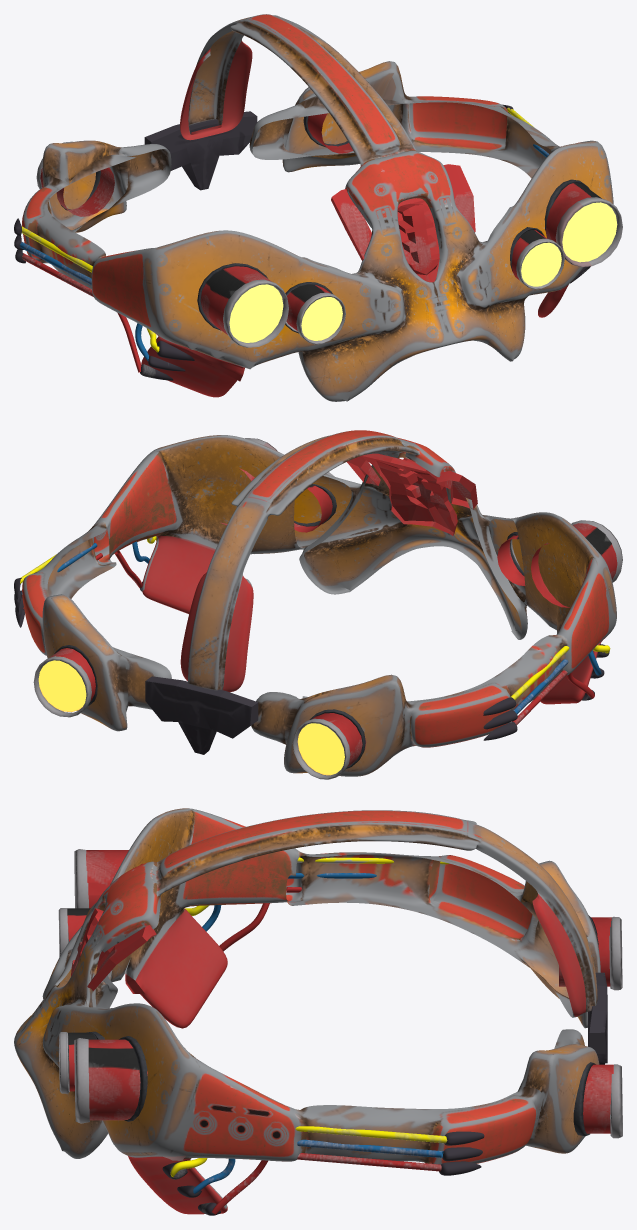
File: Goggles.glb
3 renders of one model, top to bottom at view 1: azimuth 30°, elevation 25°; view 2: azimuth 150°, elevation 25°; view 3: azimuth 270°, elevation 25°, orthographic. The views are drawn at different scales.
Visible parts, largest first — view 1: Goggles; view 2: Goggles; view 3: Goggles.
Part boxes in pixels (<box>): Goggles: <box>14,14,622,401</box>; Goggles: <box>14,430,622,779</box>; Goggles: <box>14,808,622,1215</box>.
Bounding box in the file's own units: 24.32 × 12.15 × 21.98.
Materials: 1 (1 with a texture image).
